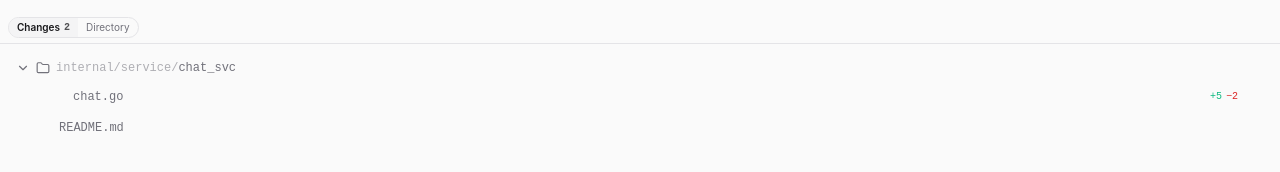
Test: FilesPanel directory search › (e) does not claim 'no match' when the traversal budget ran out before any hit was found
The image size is (1280, 172).
Click the tab "Directory" at (108, 28), box [78,18,138,37]
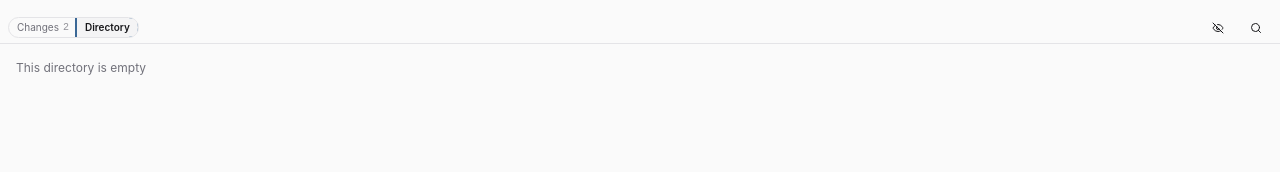
Click the button named "search" at (1256, 28), box [1240,16,1272,40]
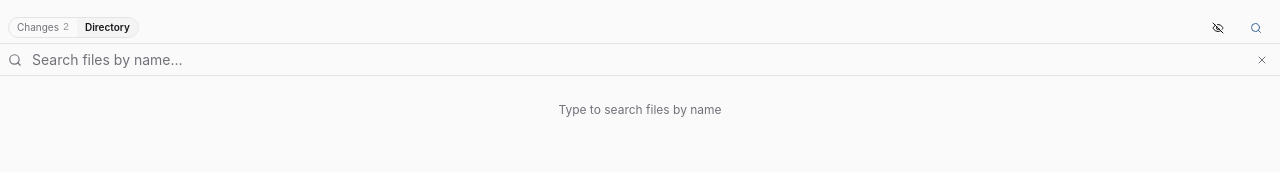
Type "zzz" into the field labelled "Search files by name…" at (637, 60), box [28,48,1246,72]
Wait 300 ms
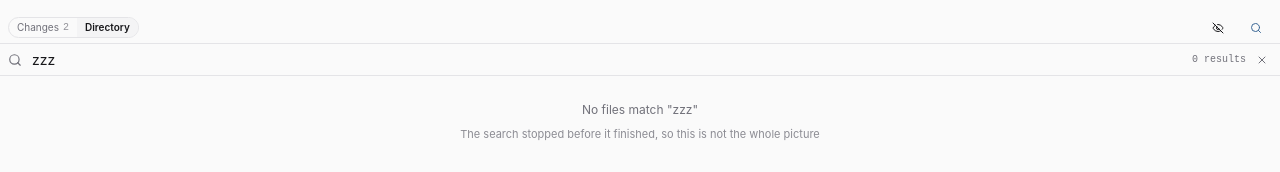
Check: the text "search stopped before it finished" is shown, box [460,126,820,140]
